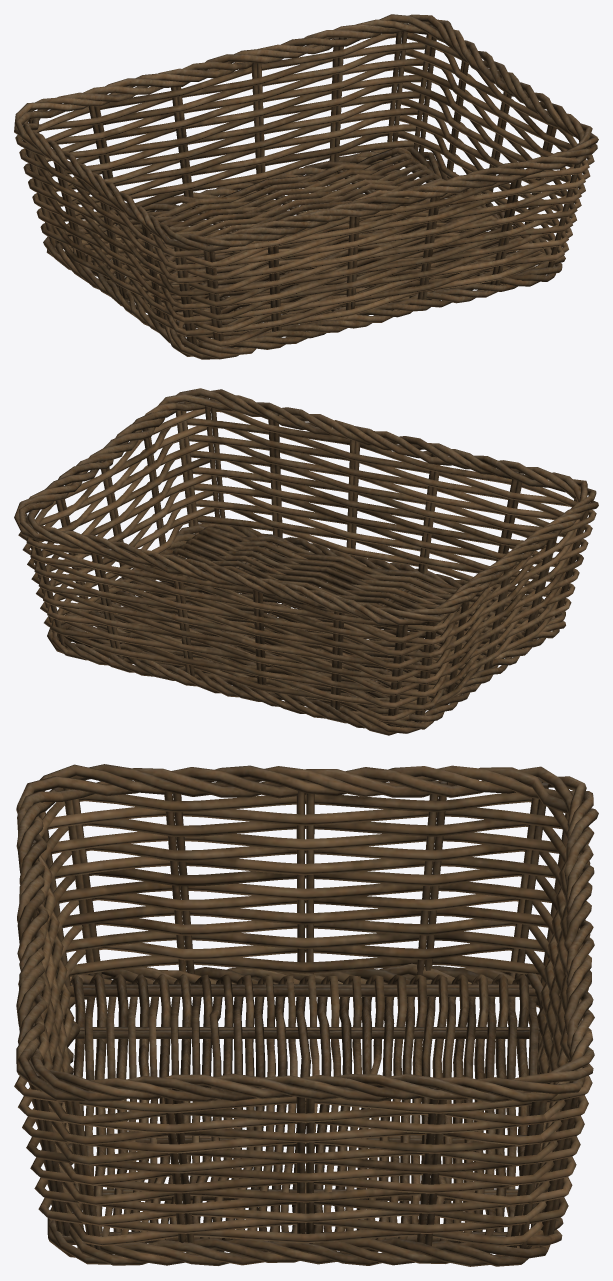
Rendered from wicker_basket_01_2k.gltf.
3 renders of one model, top to bottom at view 1: azimuth 30°, elevation 25°; view 2: azimuth 150°, elevation 25°; view 3: azimuth 270°, elevation 25°, orthographic. The views are drawn at different scales.
Visible parts, largest first — view 1: wicker_basket_01; view 2: wicker_basket_01; view 3: wicker_basket_01.
Part boxes in pixels (<box>): wicker_basket_01: <box>14,14,598,359</box>; wicker_basket_01: <box>14,388,598,735</box>; wicker_basket_01: <box>14,764,598,1266</box>.
Size of the model in its own units: 0.3832 by 0.1174 by 0.295.
Materials: 1 (1 with a texture image).
